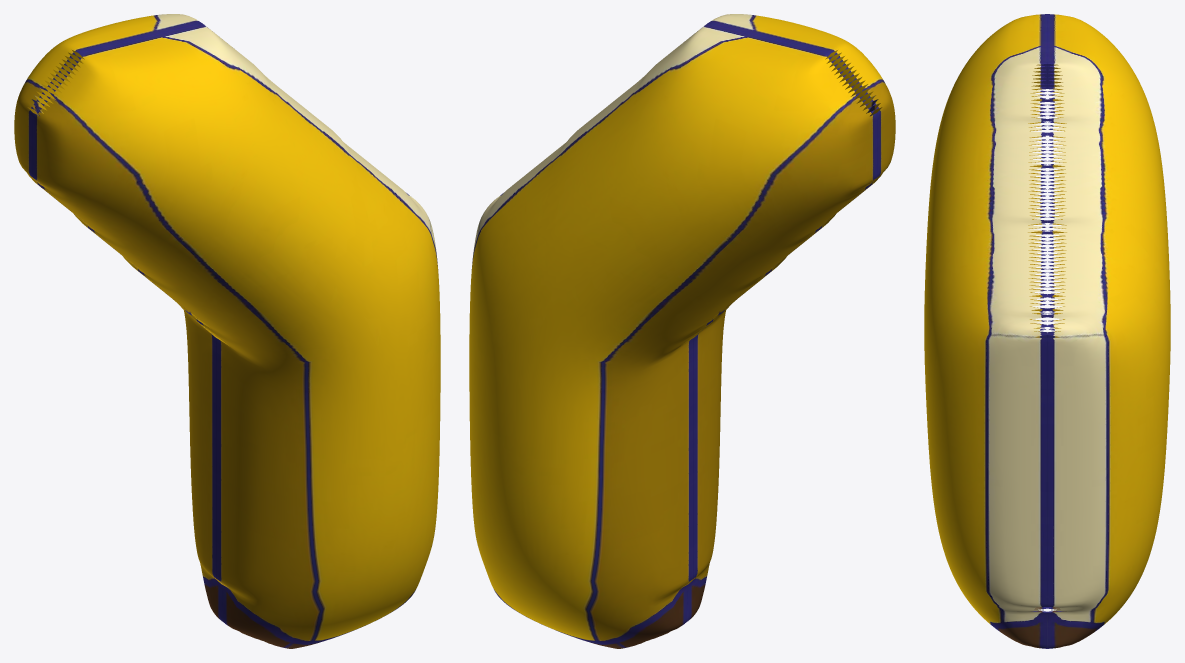
The model's file is guard_post.glb.
The picture shows the model from 3 angles, left to right: view 1: azimuth 30°, elevation 25°; view 2: azimuth 150°, elevation 25°; view 3: azimuth 270°, elevation 25°; orthographic projection. The views are drawn at different scales.
Visible parts, largest first — view 1: guard_post; view 2: guard_post; view 3: guard_post.
Part boxes in pixels (bbox=[...]): guard_post: bbox=[14, 14, 440, 648]; guard_post: bbox=[469, 14, 895, 648]; guard_post: bbox=[924, 14, 1170, 648].
Bounding box in the file's own units: 0.9826 × 1.57 × 0.6658.
Materials: 1 (1 with a texture image).
